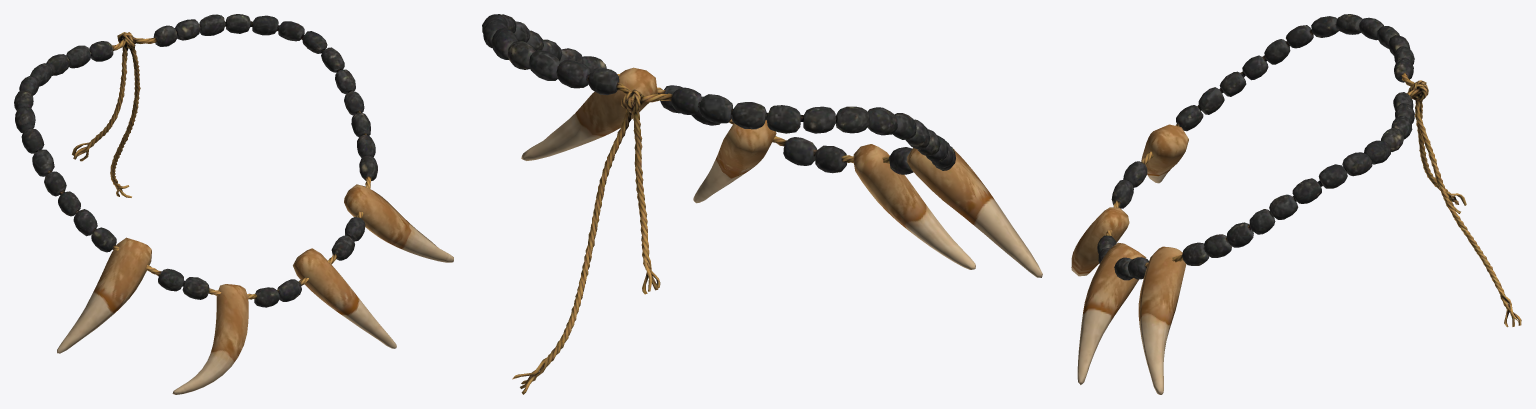
Rendered from SM_CollarColmillosSemillas.glb.
The picture shows the model from 3 angles, left to right: view 1: azimuth 30°, elevation 25°; view 2: azimuth 150°, elevation 25°; view 3: azimuth 270°, elevation 25°; orthographic projection. The views are drawn at different scales.
Parts seen in each view (by area): view 1: CColmillos_Cuerda_Low, CColmillos_Colmillos_position, CColmillos_Cuerda_Low.003, CColmillos_Colmillos_position.003, CColmillos_Colmillos_position.001; view 2: CColmillos_Cuerda_Low, CColmillos_Colmillos_position, CColmillos_Cuerda_Low.003, CColmillos_Colmillos_position.003, CColmillos_Colmillos_position.001; view 3: CColmillos_Cuerda_Low, CColmillos_Colmillos_position.003, CColmillos_Colmillos_position.001, CColmillos_Cuerda_Low.003, CColmillos_Colmillos_position.
Part boxes in pixels (x1,y1,x2,y2): CColmillos_Cuerda_Low: (14,14,377,307); CColmillos_Colmillos_position: (57,237,151,353); CColmillos_Cuerda_Low.003: (172,284,248,394); CColmillos_Colmillos_position.003: (344,184,453,262); CColmillos_Colmillos_position.001: (293,248,396,348); CColmillos_Cuerda_Low: (482,14,955,394); CColmillos_Colmillos_position: (907,147,1042,277); CColmillos_Cuerda_Low.003: (853,144,975,269); CColmillos_Colmillos_position.003: (521,67,657,160); CColmillos_Colmillos_position.001: (693,120,776,203); CColmillos_Cuerda_Low: (1097,14,1521,327); CColmillos_Colmillos_position.003: (1138,246,1186,394); CColmillos_Colmillos_position.001: (1077,242,1146,384); CColmillos_Cuerda_Low.003: (1071,207,1129,276); CColmillos_Colmillos_position: (1141,124,1188,183).
Bounding box in the file's own units: 0.1853 × 0.1032 × 0.1687.
Materials: 1 (1 with a texture image).
